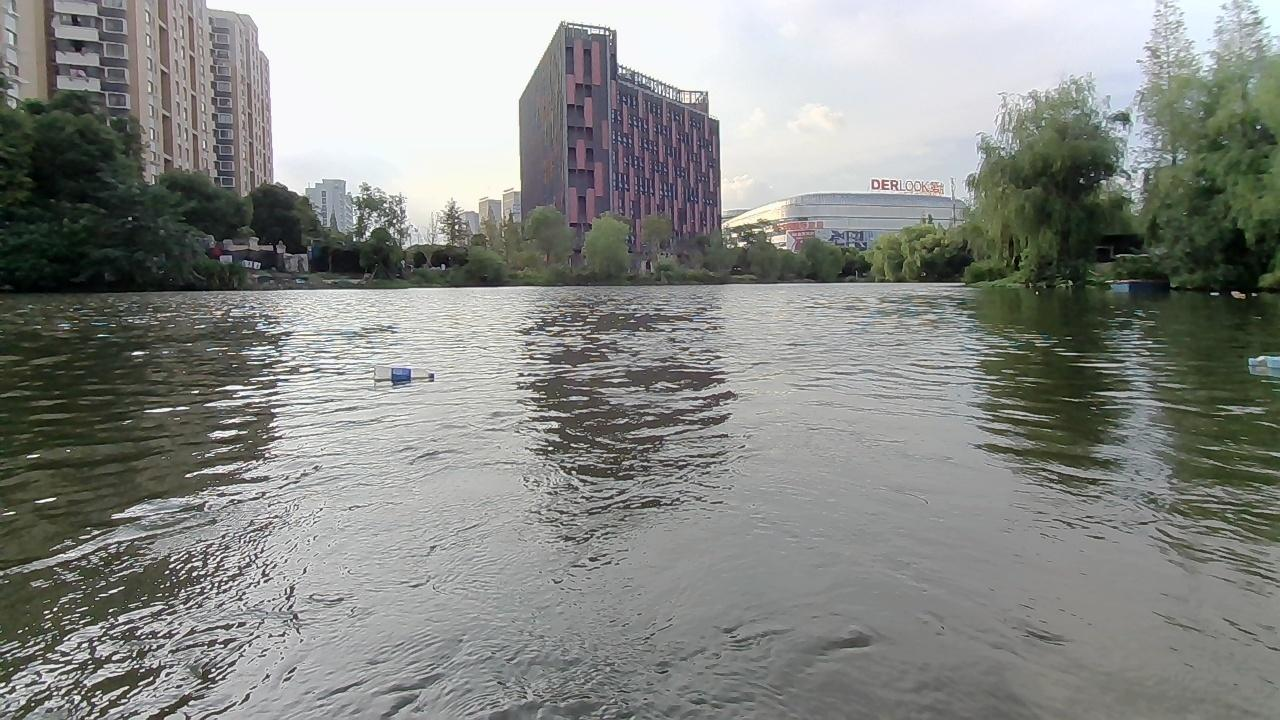bottle: (364, 361, 436, 381), (1243, 354, 1279, 375)
